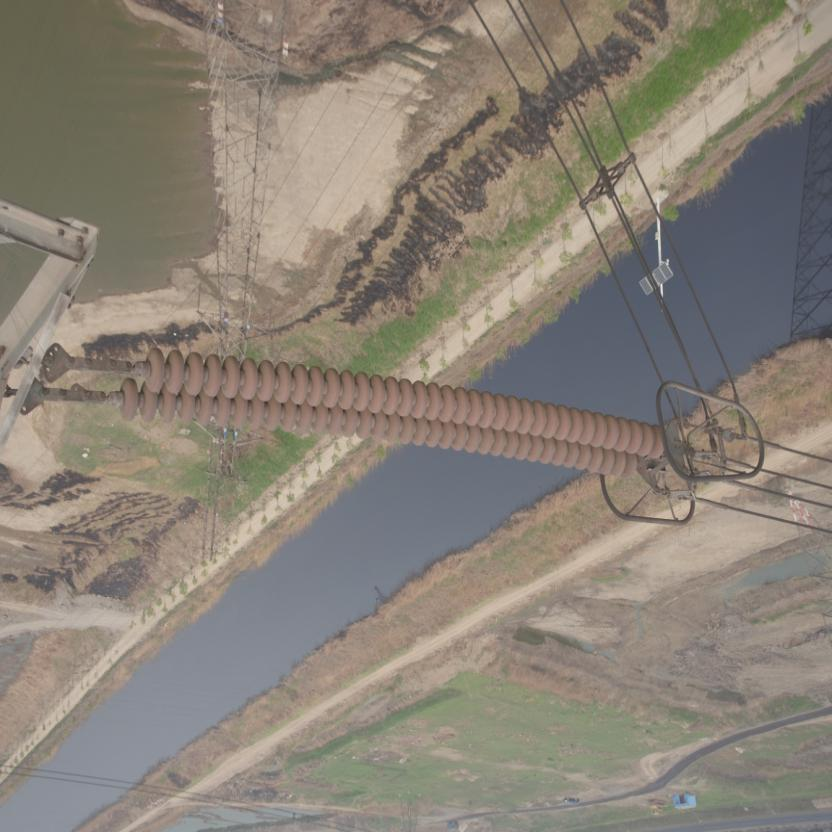insulator: (84, 348, 676, 486)
